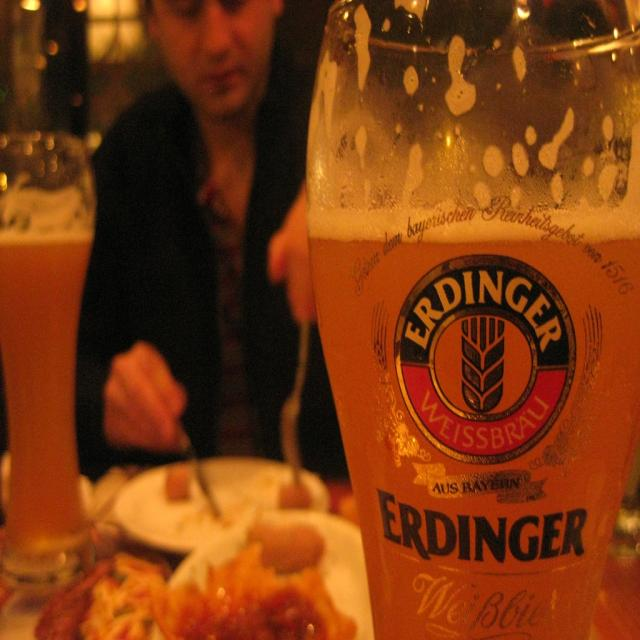erdinger: (344, 192, 637, 579)
